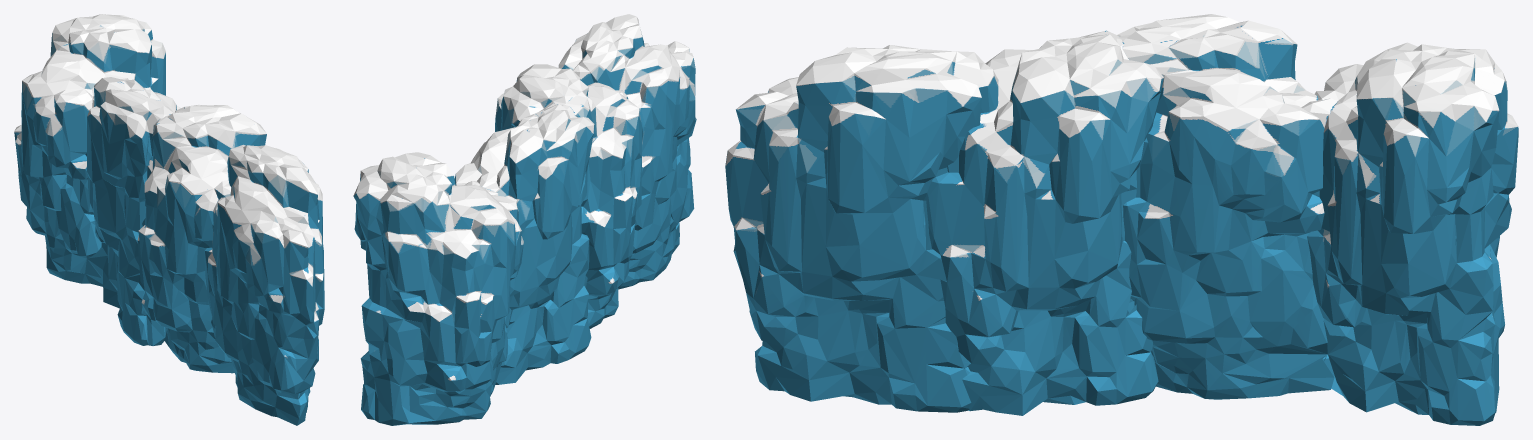
The model's file is glacier.glb.
3 views of the same model, side by side, from view 1: azimuth 30°, elevation 25°; view 2: azimuth 150°, elevation 25°; view 3: azimuth 270°, elevation 25° (orthographic). The views are drawn at different scales.
Visible parts, largest first — view 1: glacier_Low; view 2: glacier_Low; view 3: glacier_Low.
Part boxes in pixels (box(x1,y1,x2,y2)): glacier_Low: box(14, 14, 324, 425); glacier_Low: box(353, 14, 696, 425); glacier_Low: box(725, 14, 1518, 425).
Bounding box in the file's own units: 10.97 × 17.32 × 35.77.
Materials: 4 (4 with a texture image).
